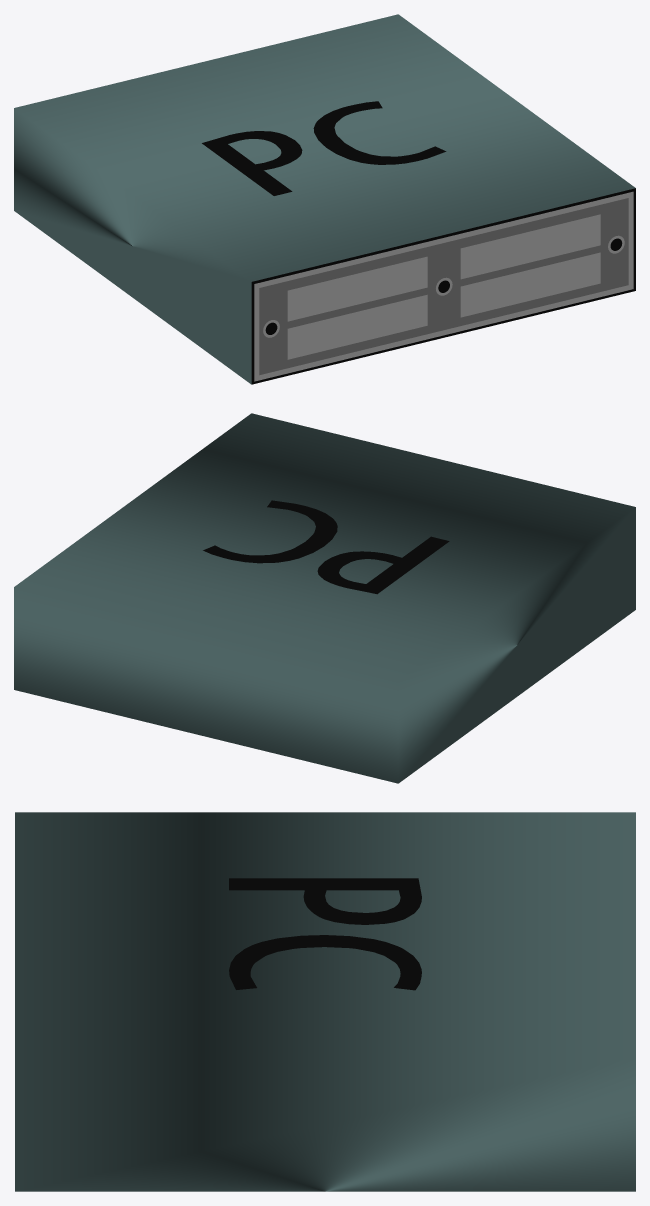
The model's file is WebServer.obj.
3 views of the same model, one above another, from view 1: azimuth 30°, elevation 25°; view 2: azimuth 150°, elevation 25°; view 3: azimuth 270°, elevation 25° (orthographic). The views are drawn at different scales.
Parts seen in each view (by area): view 1: PC; view 2: PC; view 3: PC.
Boxes of the visible parts, left/top/right/bottom form: PC: left=14, top=14, right=635, bottom=384; PC: left=14, top=413, right=635, bottom=783; PC: left=15, top=812, right=635, bottom=1191.
Size of the model in its own units: 1.34 by 0.3431 by 1.44.
